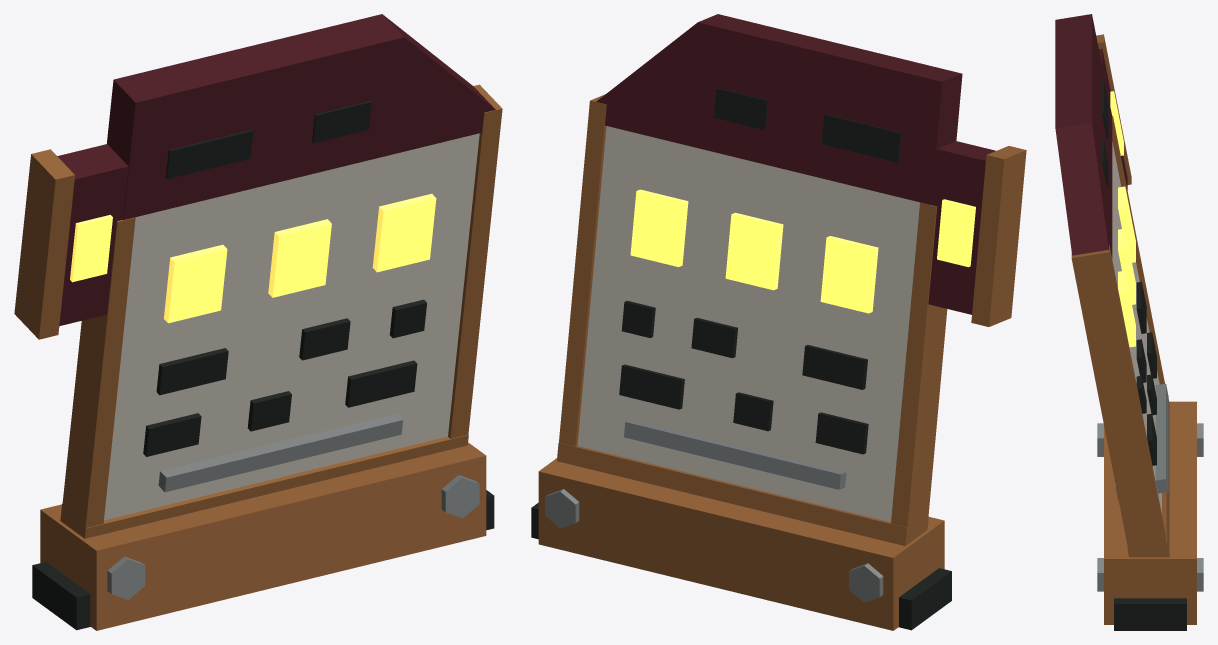
File: ally_husk_tag.glb
3 views of the same model, side by side, from view 1: azimuth 30°, elevation 25°; view 2: azimuth 150°, elevation 25°; view 3: azimuth 270°, elevation 25° (orthographic). The views are drawn at different scales.
Parts seen in each view (by area): view 1: TagMesh; view 2: TagMesh; view 3: TagMesh.
Boxes of the visible parts, x1,y1,x2,y2 form: TagMesh: (14, 14, 502, 630); TagMesh: (531, 14, 1026, 630); TagMesh: (1055, 14, 1203, 630).
Bounding box in the file's own units: 0.674 × 0.7612 × 0.2232.
